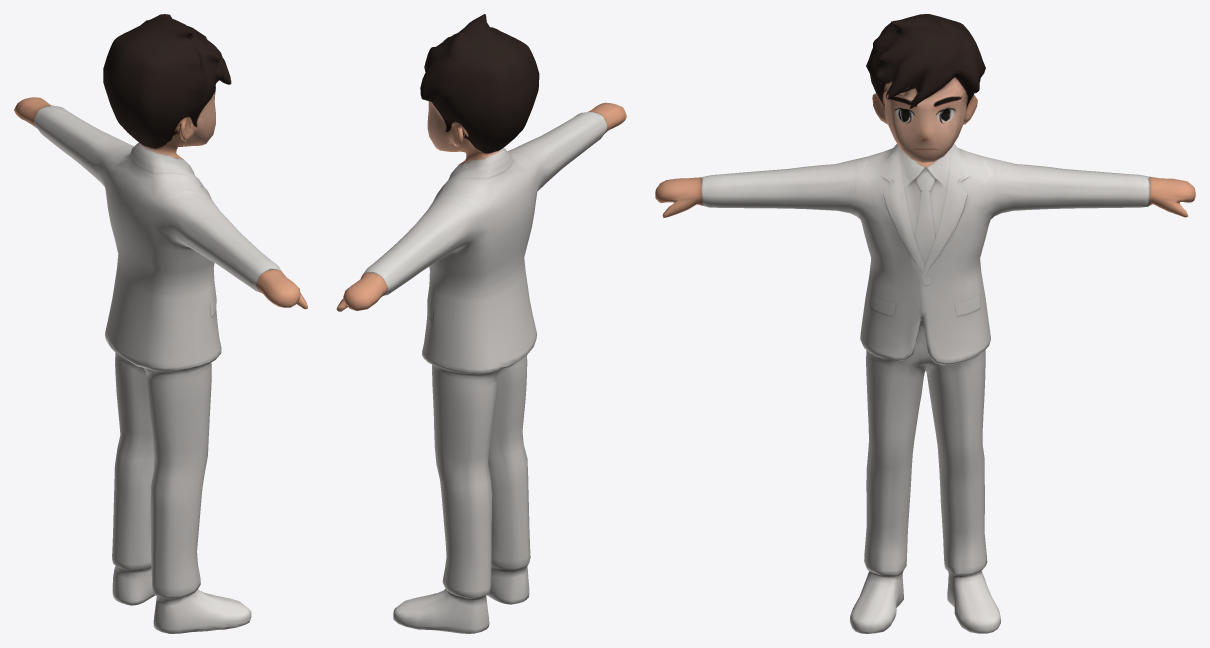
File: Ramon.fbx
The picture shows the model from 3 angles, left to right: view 1: azimuth 30°, elevation 25°; view 2: azimuth 150°, elevation 25°; view 3: azimuth 270°, elevation 25°; orthographic projection.
Parts seen in each view (by area): view 1: tripo_node_5cf0f1da; view 2: tripo_node_5cf0f1da; view 3: tripo_node_5cf0f1da.
Part boxes in pixels (x1,y1,x2,y2): tripo_node_5cf0f1da: (14, 14, 307, 633); tripo_node_5cf0f1da: (336, 14, 626, 633); tripo_node_5cf0f1da: (655, 14, 1195, 633).
Bounding box in the file's own units: 0.1904 × 0.9962 × 0.8255.
1 material, 1 textured.
